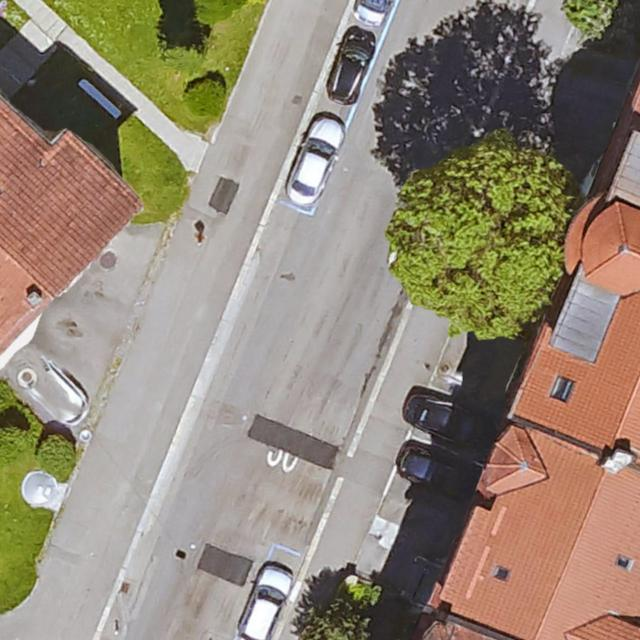tree: (393, 133, 573, 335), (297, 598, 380, 640), (563, 0, 628, 37), (184, 77, 224, 120), (38, 440, 77, 478), (193, 0, 247, 24), (164, 45, 206, 74), (0, 425, 29, 467)
